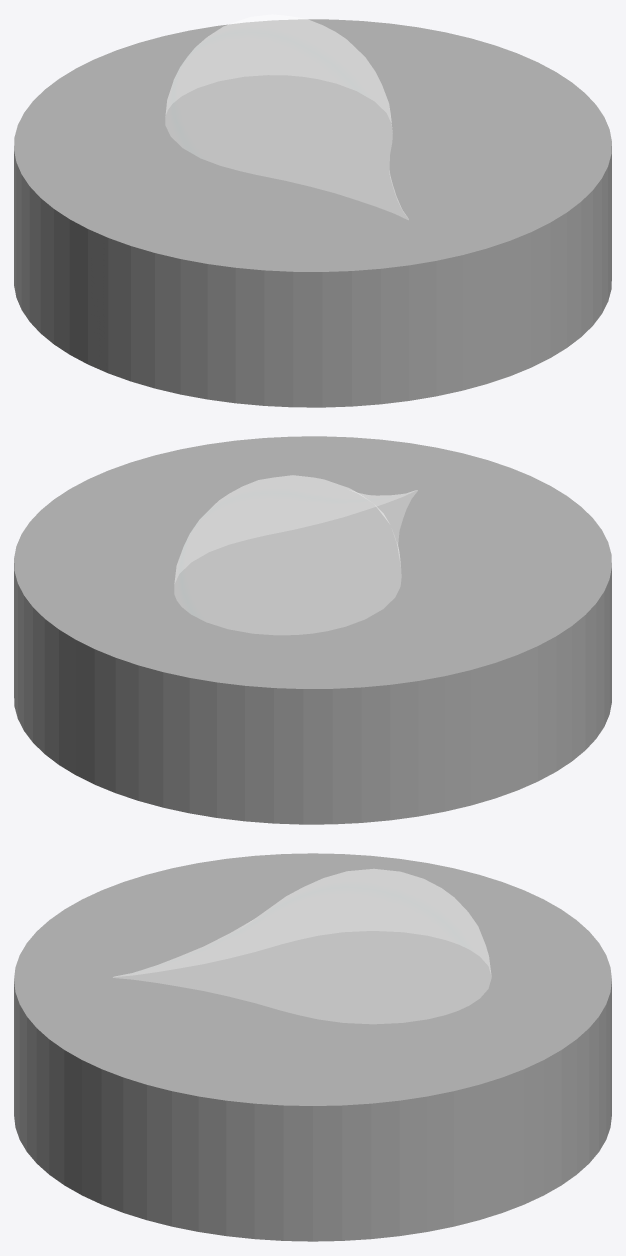
The model's file is glucocoin.glb.
3 renders of one model, top to bottom at view 1: azimuth 30°, elevation 25°; view 2: azimuth 150°, elevation 25°; view 3: azimuth 270°, elevation 25°, orthographic.
Visible parts, largest first — view 1: Cylinder, Drops; view 2: Cylinder, Drops; view 3: Cylinder, Drops.
Boxes of the visible parts, left/top/right/bottom form: Cylinder: left=14, top=19, right=611, bottom=407; Drops: left=165, top=14, right=408, bottom=219; Cylinder: left=14, top=436, right=611, bottom=824; Drops: left=174, top=475, right=417, bottom=634; Cylinder: left=14, top=853, right=611, bottom=1241; Drops: left=113, top=869, right=491, bottom=1023.
Bounding box in the file's own units: 2 × 0.8635 × 2.
Materials: 2 (1 with a texture image).
